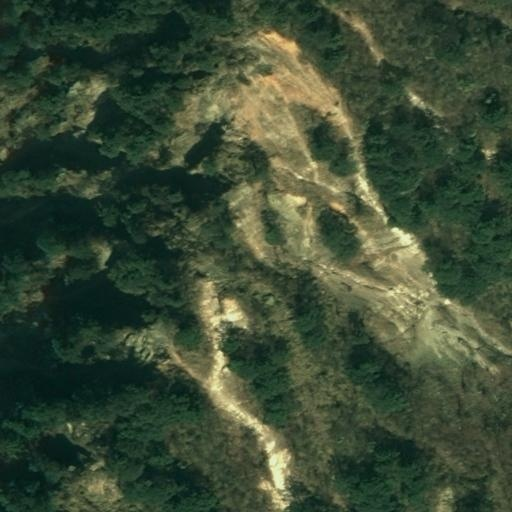landslide: (138, 26, 492, 511)
